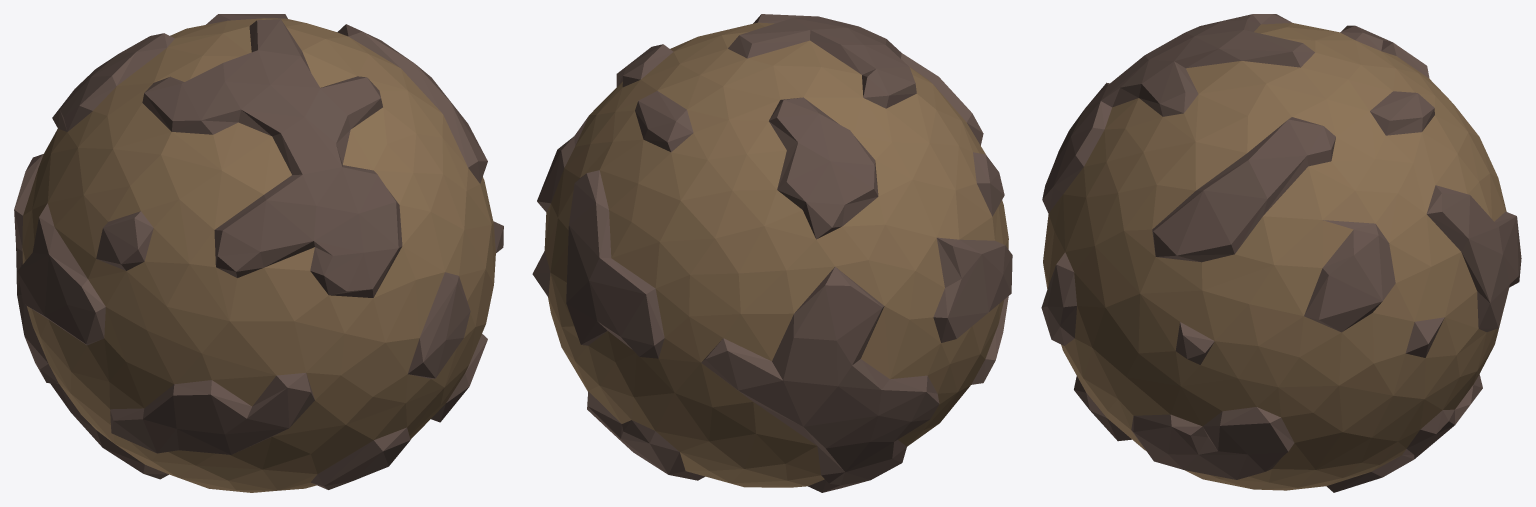
Rendered from mercury.glb.
3 views of the same model, side by side, from view 1: azimuth 30°, elevation 25°; view 2: azimuth 150°, elevation 25°; view 3: azimuth 270°, elevation 25° (orthographic). The views are drawn at different scales.
Size of the model in its own units: 36.01 by 35.45 by 35.81.
1 material, 1 textured.
